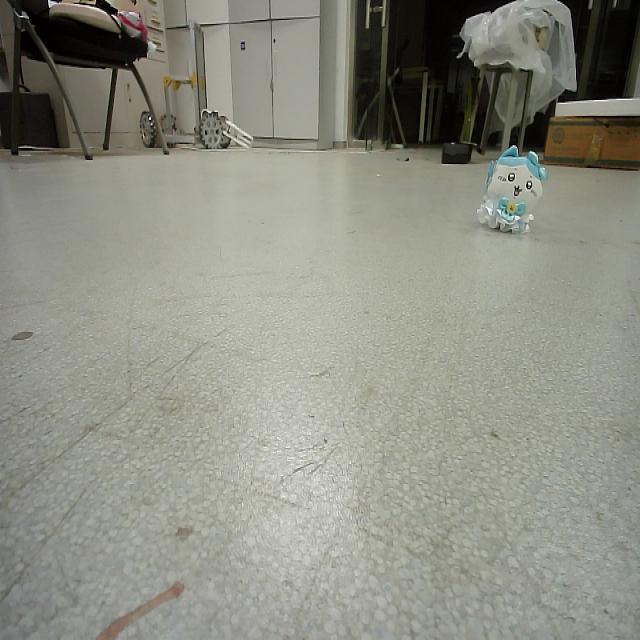xiaoba: (480, 144, 544, 238)
